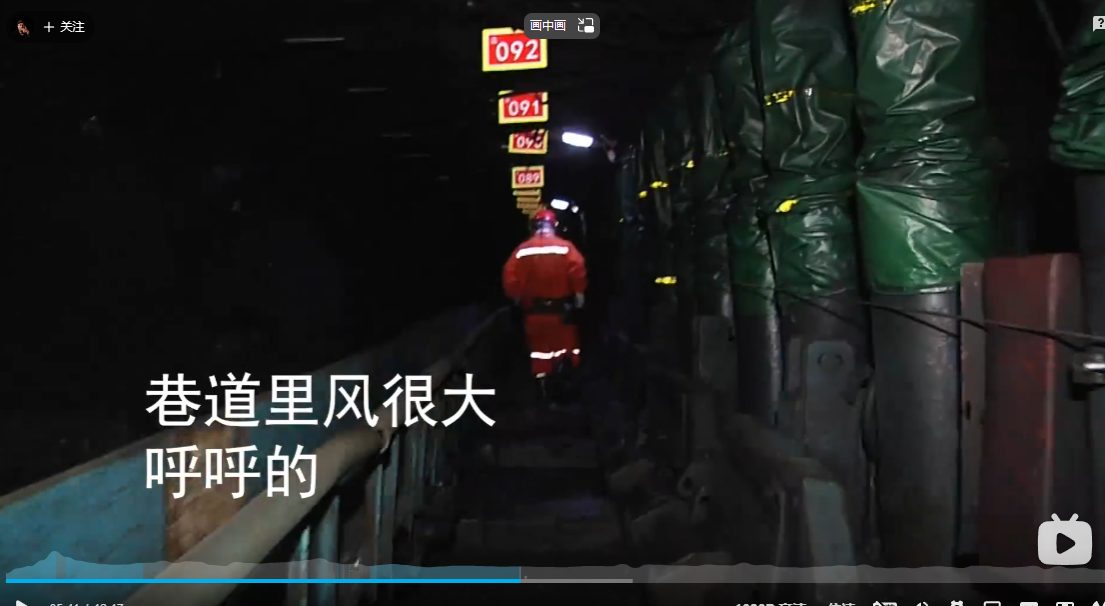device: (499, 206, 585, 402)
